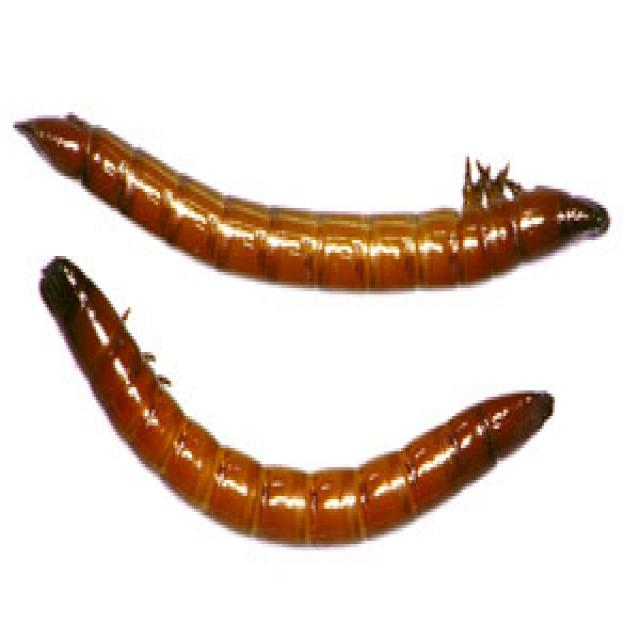wireworm: (36, 234, 568, 564), (11, 70, 620, 300)
